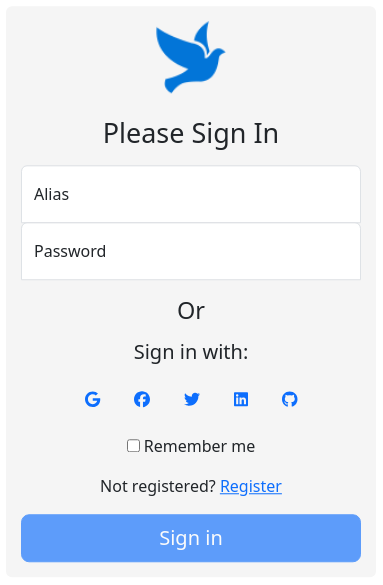
Login Component › enables the sign-in button when both alias and password fields have text
Type "a" into the field labelled "Alias".
click(191, 195); type("a")  # box x1=21 y1=166 x2=361 y2=224
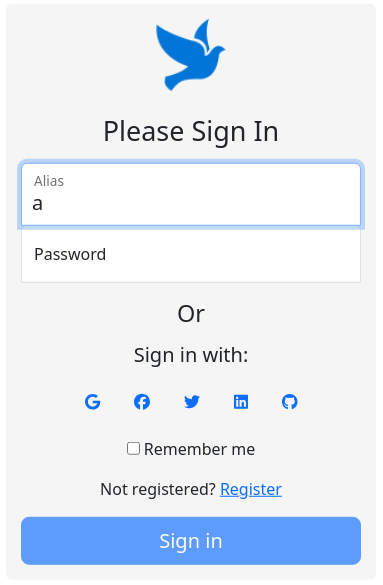
Type "b" into the password field labelled "Password".
click(191, 254); type("b")  # box x1=21 y1=225 x2=361 y2=283
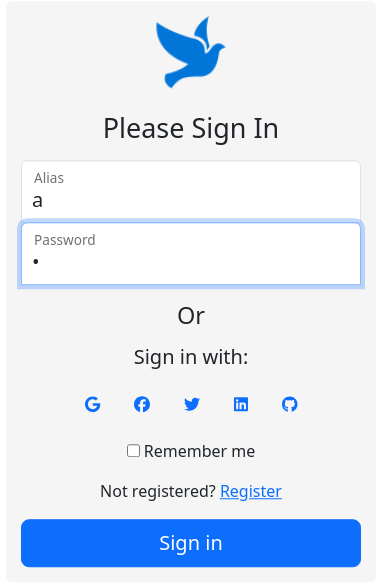
Expected: the button with aria-label "submit-button" is enabled, x1=21 y1=520 x2=361 y2=568
